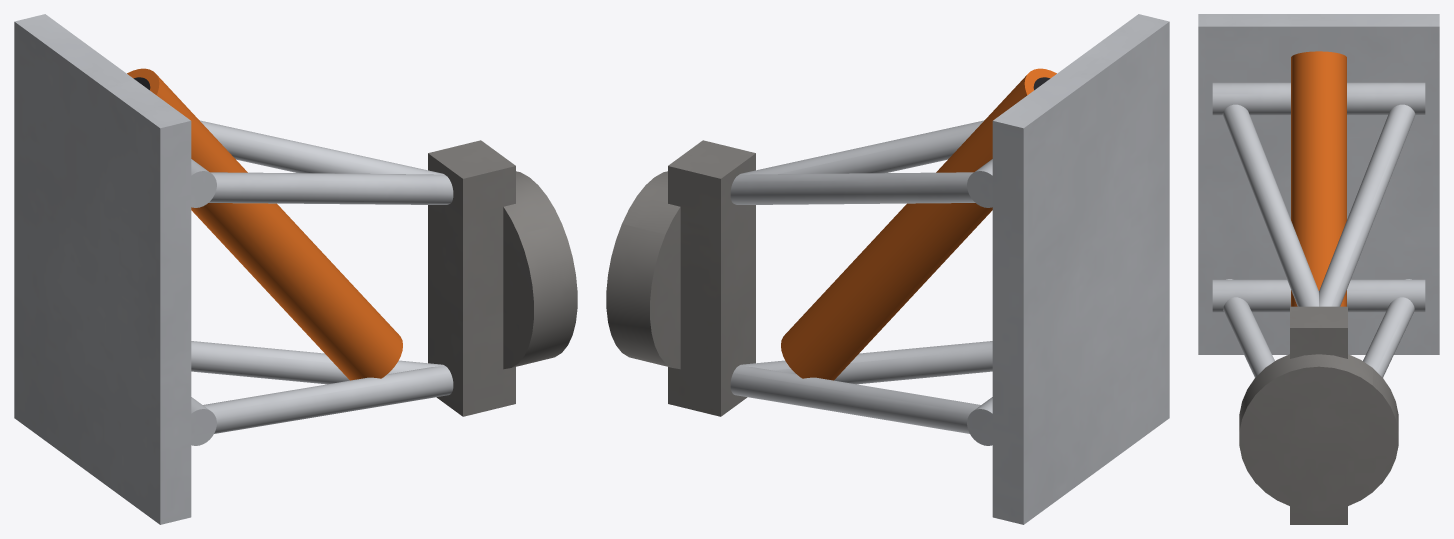
The model's file is rover17_suspension_arm_l_susp_down.glb.
3 views of the same model, side by side, from view 1: azimuth 30°, elevation 25°; view 2: azimuth 150°, elevation 25°; view 3: azimuth 270°, elevation 25° (orthographic). The views are drawn at different scales.
Parts seen in each view (by area): view 1: mount_plate, arm_upright, spring, arm_lower, arm_upper; view 2: mount_plate, arm_upright, spring, arm_lower, arm_upper; view 3: mount_plate, arm_upright, arm_upper, spring, arm_lower.
Boxes of the visible parts, x1=… form: mount_plate: x1=14, y1=14, x2=191, y2=524; arm_upright: x1=428, y1=140, x2=577, y2=416; spring: x1=127, y1=68, x2=402, y2=380; arm_lower: x1=191, y1=341, x2=453, y2=445; arm_upper: x1=191, y1=120, x2=453, y2=207; mount_plate: x1=992, y1=14, x2=1169, y2=524; arm_upright: x1=606, y1=140, x2=755, y2=416; spring: x1=781, y1=68, x2=1056, y2=380; arm_lower: x1=730, y1=341, x2=992, y2=445; arm_upper: x1=730, y1=120, x2=992, y2=207; mount_plate: x1=1198, y1=14, x2=1439, y2=354; arm_upright: x1=1239, y1=306, x2=1398, y2=524; arm_upper: x1=1212, y1=82, x2=1425, y2=306; spring: x1=1291, y1=51, x2=1346, y2=306; arm_lower: x1=1212, y1=279, x2=1425, y2=377.
Bounding box in the file's own units: 0.7 × 0.63 × 0.4.
4 materials, 2 textured.
